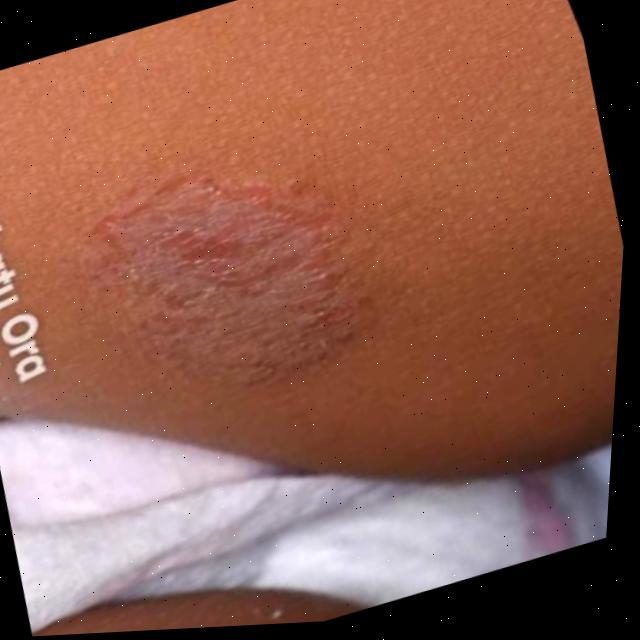Eczema: (61, 150, 330, 438)
